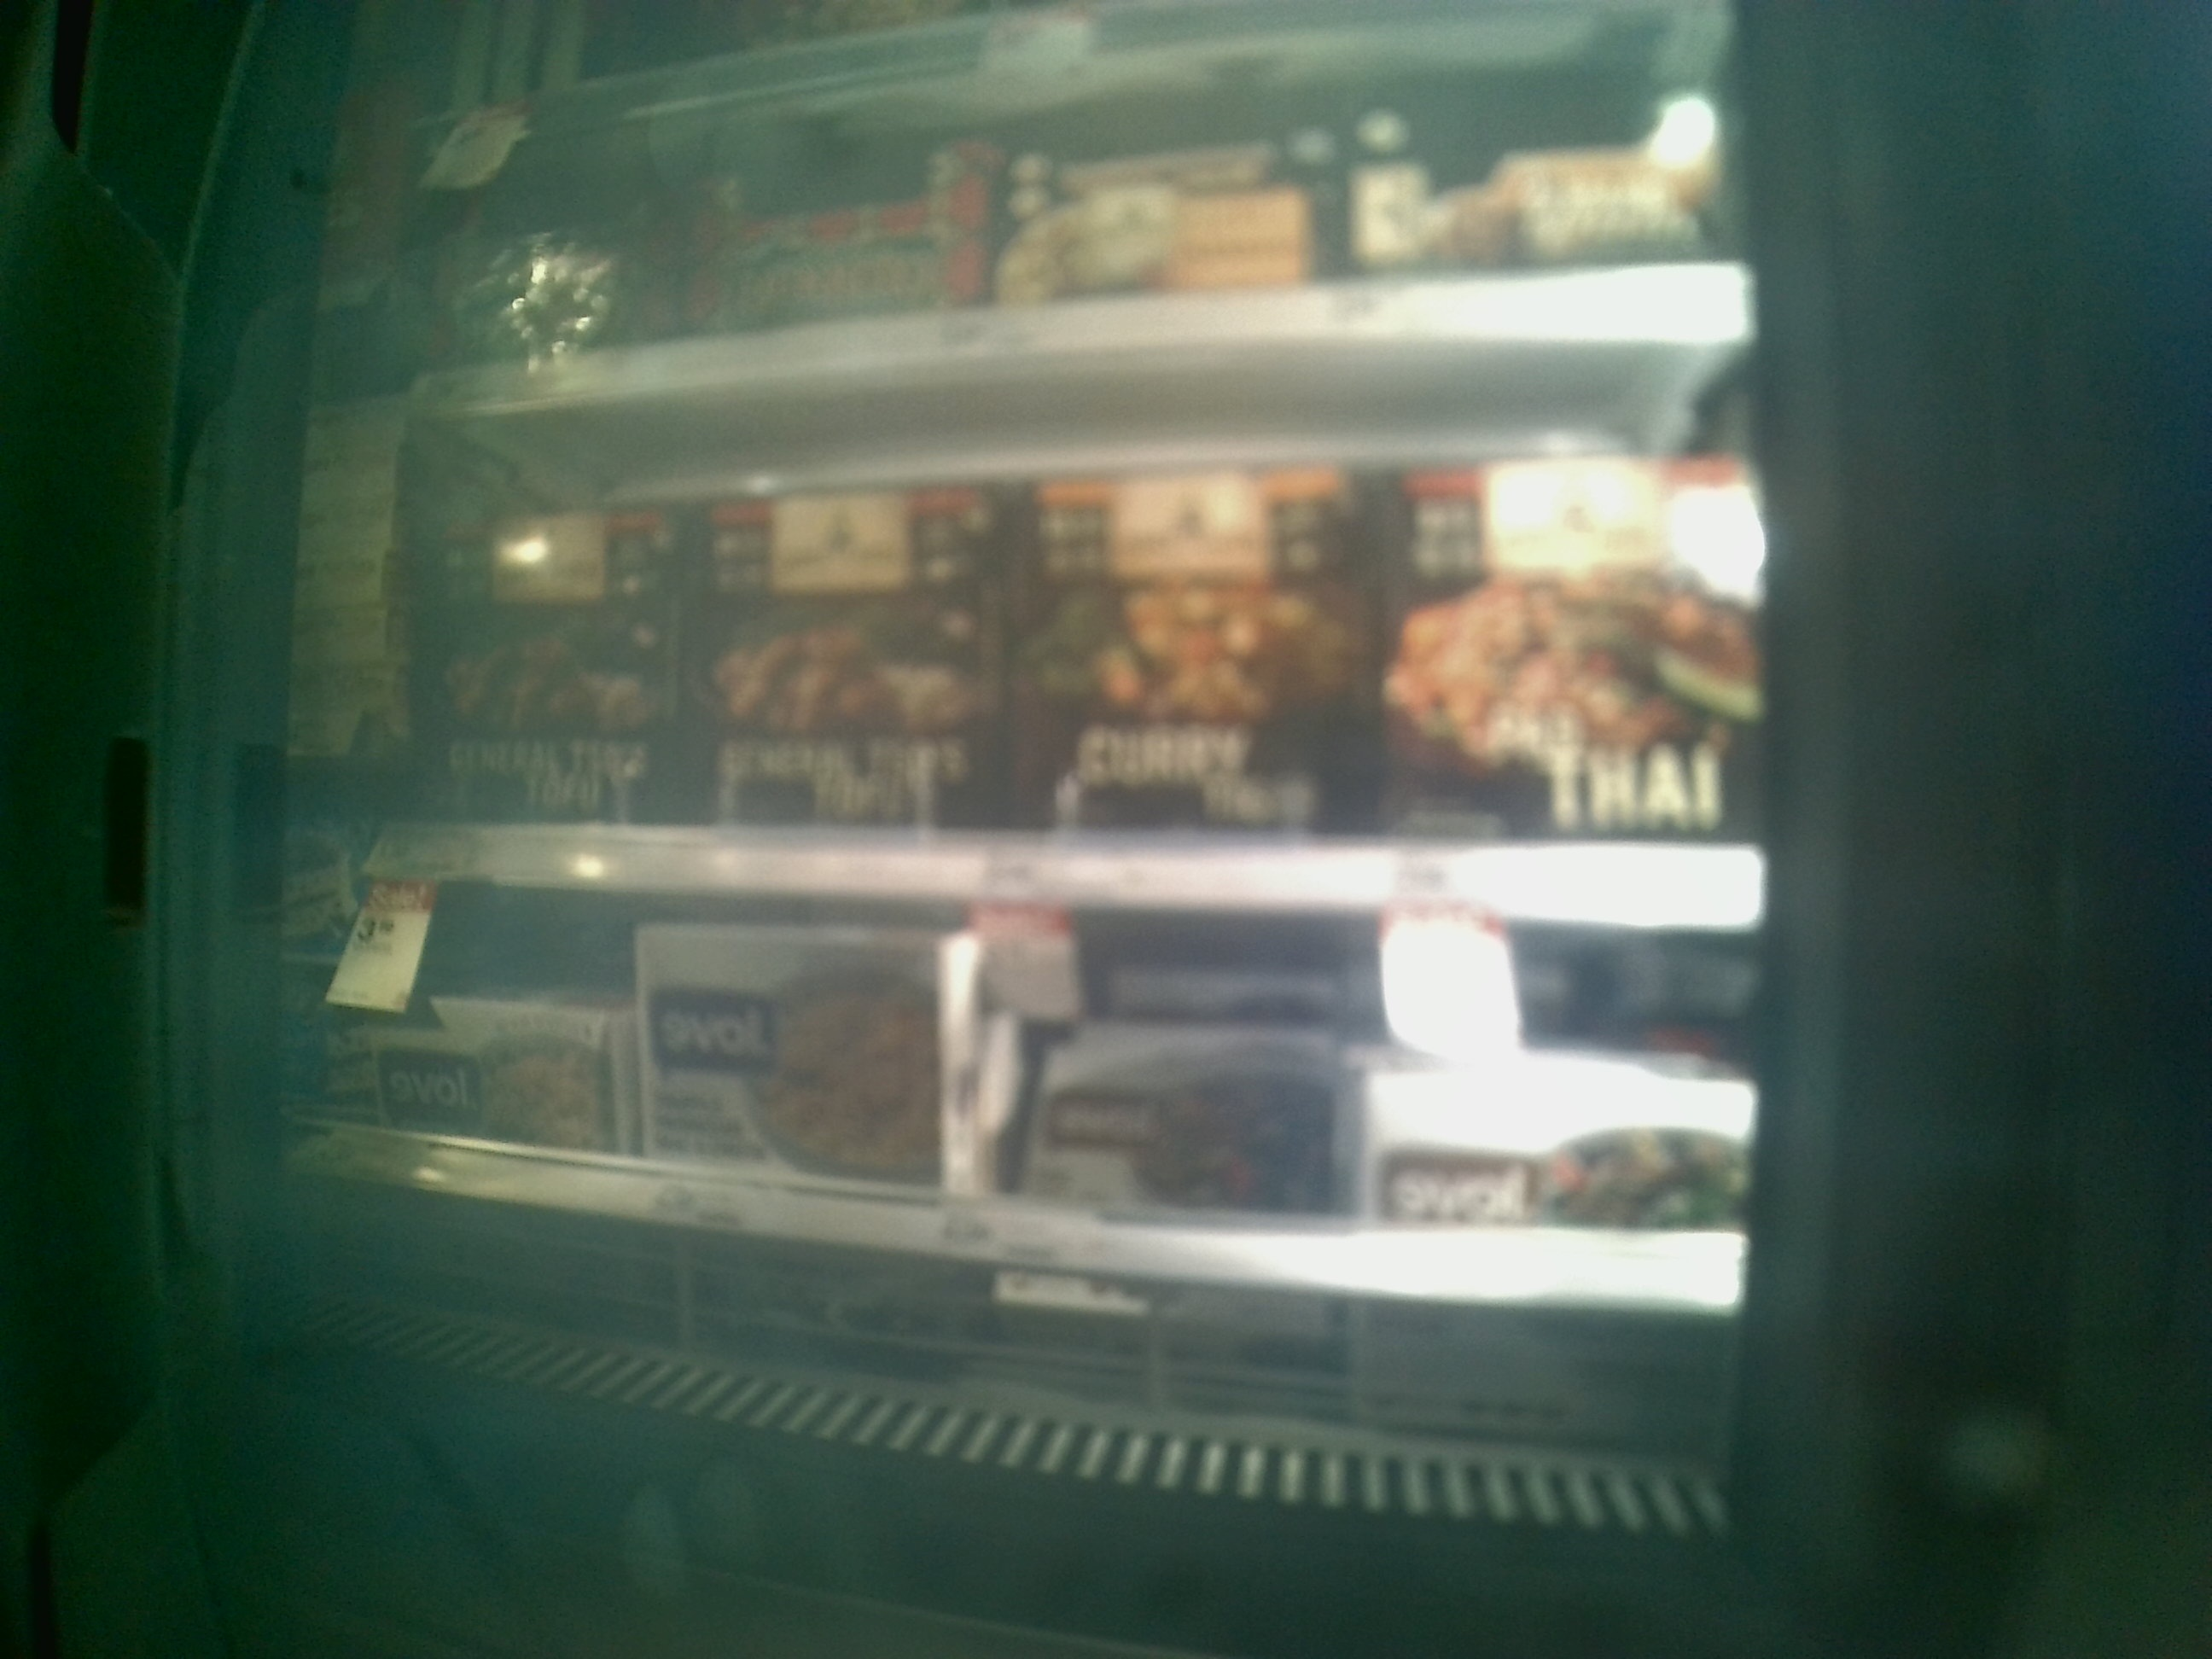frozen-food-shelf: (340, 430, 1787, 932), (296, 929, 1789, 1314)
